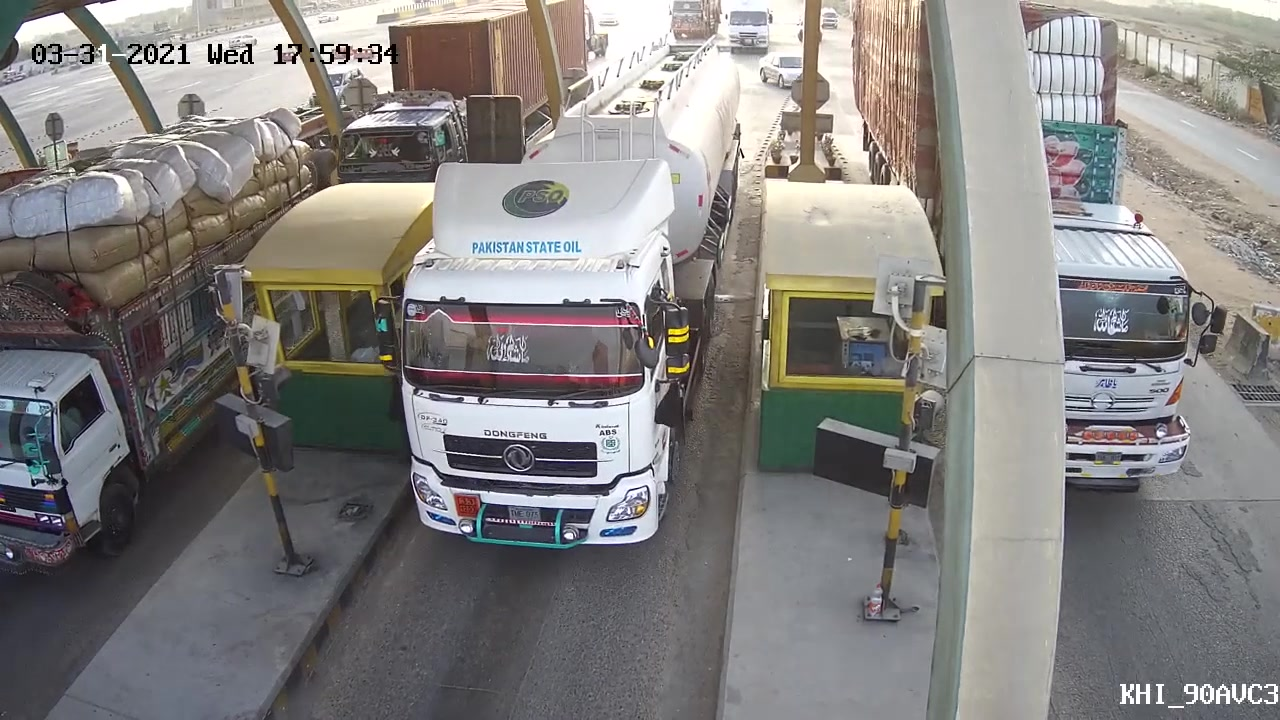F6: (369, 47, 745, 552)
